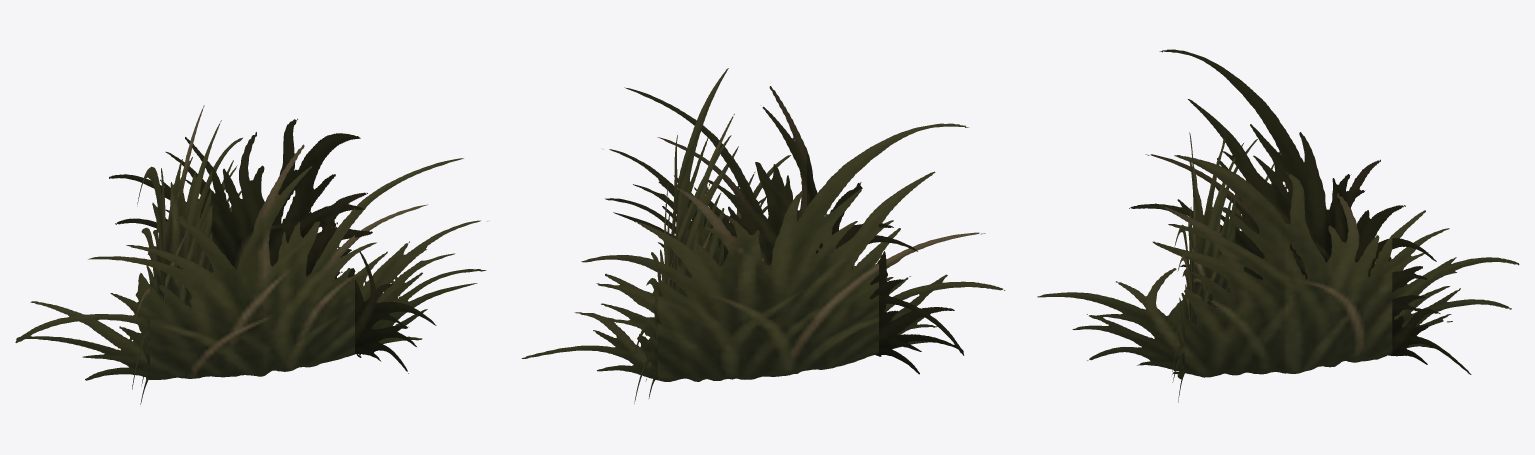
3 views of the same model, side by side, from view 1: azimuth 30°, elevation 25°; view 2: azimuth 150°, elevation 25°; view 3: azimuth 270°, elevation 25° (orthographic).
Parts seen in each view (by area): view 1: Bent meadow card; view 2: Bent meadow card; view 3: Bent meadow card.
Part boxes in pixels (box(x1,y1,x2,y2)): Bent meadow card: box(15, 105, 489, 404); Bent meadow card: box(521, 68, 1005, 403); Bent meadow card: box(1037, 49, 1519, 402).
Size of the model in its own units: 2.04 by 1.05 by 2.06.
Materials: 1 (1 with a texture image).
